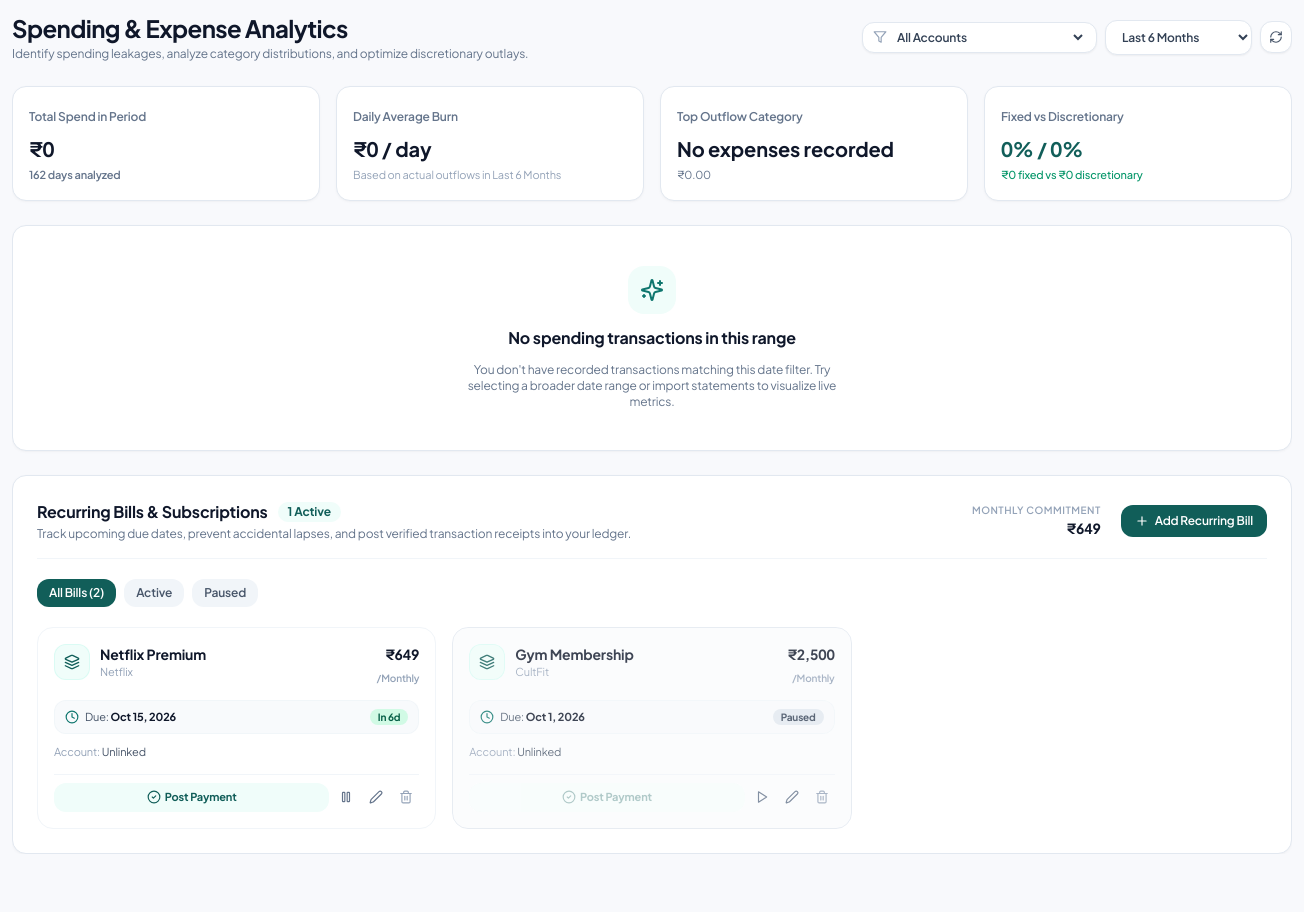
Test: Recurring Bills Integration › filters recurring bills by status (All, Active, Paused)
The width and height of the screenshot is (1304, 912).
Expected: the heading "Netflix Premium" is shown, [100, 644, 206, 664]
Expected: the heading "Gym Membership" is shown, [515, 644, 634, 664]
Note: Click 'active' filter button
Click the button "active".
click(154, 592)  # box [124, 578, 184, 606]
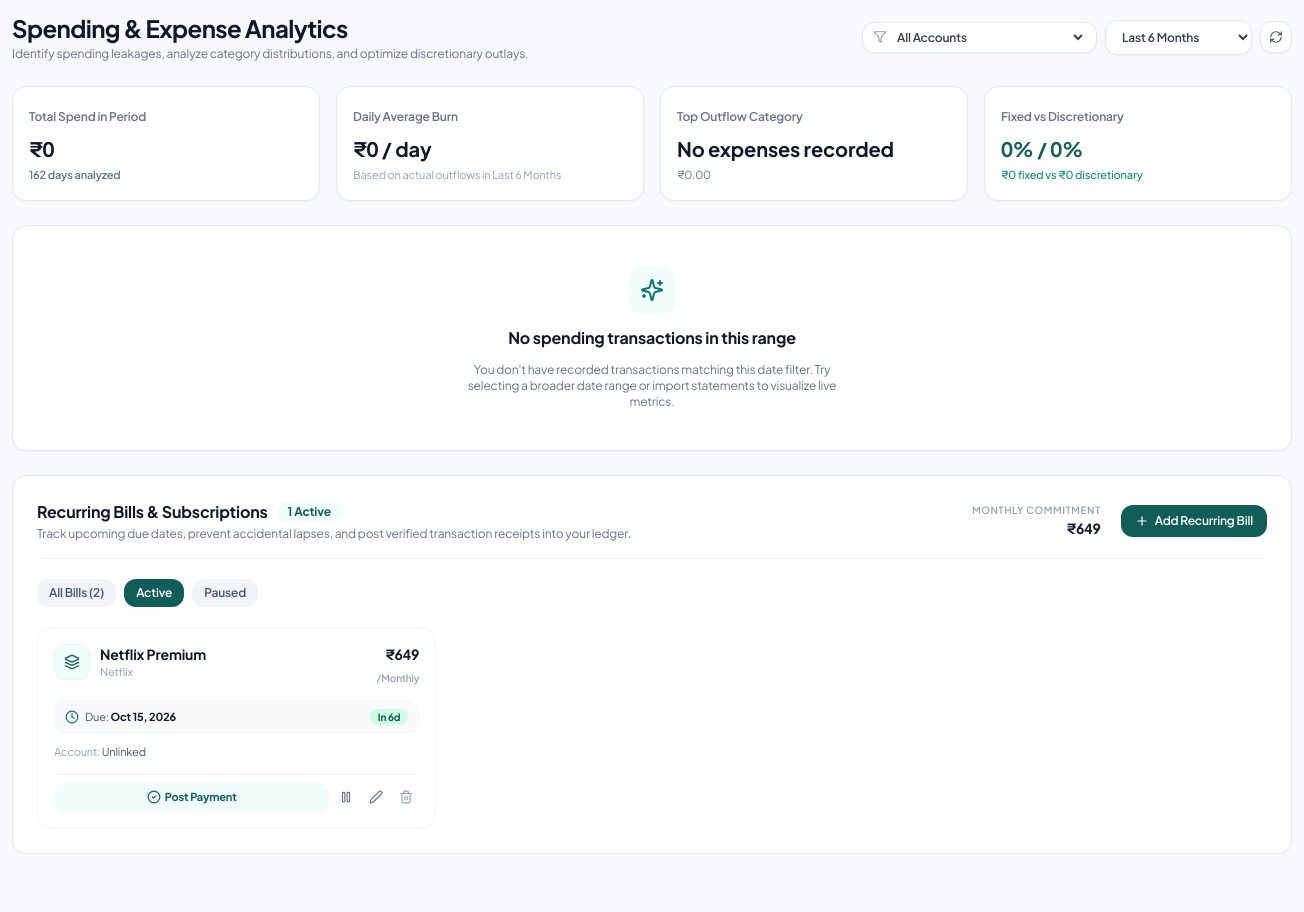
Expected: the heading "Netflix Premium" is shown, [100, 644, 206, 664]
Expected: the heading "Gym Membership" is gone
Note: Click 'paused' filter button
Click the button "paused".
click(225, 592)  # box [192, 578, 258, 606]
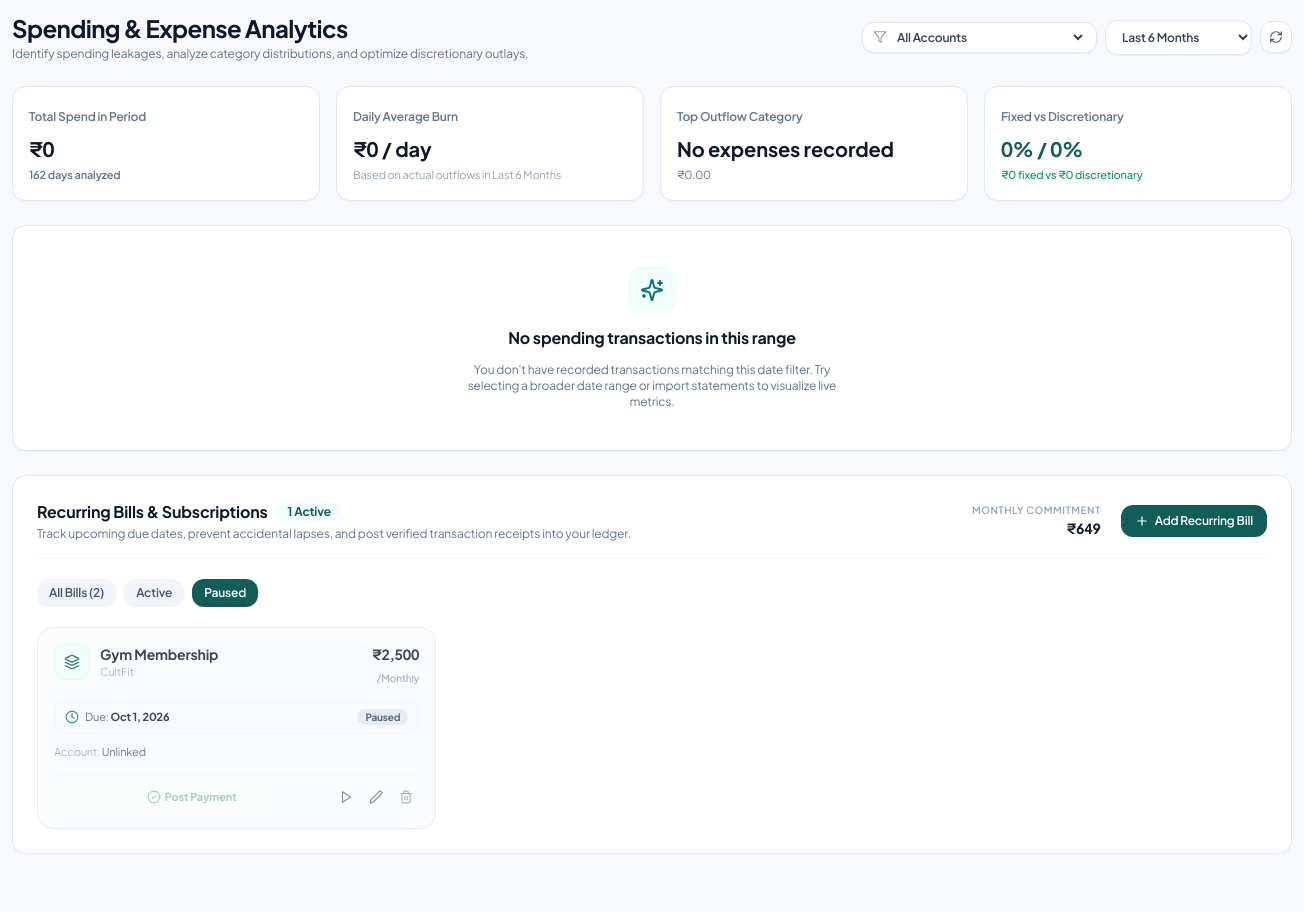
Expected: the heading "Netflix Premium" is gone
Expected: the heading "Gym Membership" is shown, [100, 644, 218, 664]
